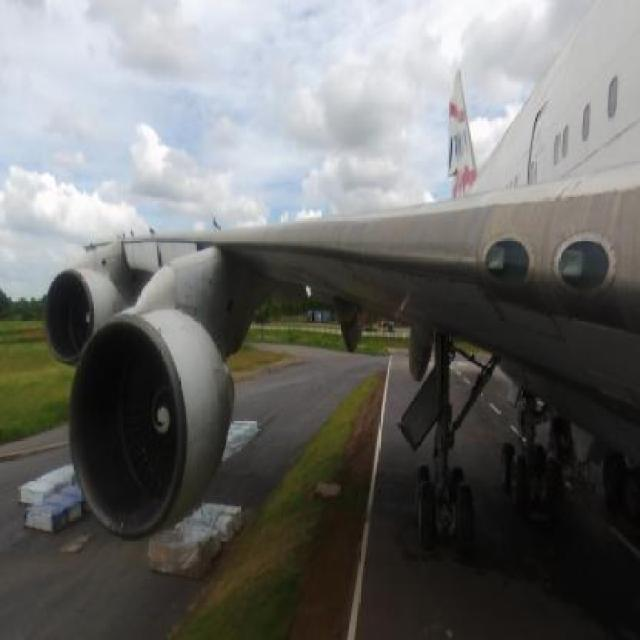Scartch: (373, 265, 478, 309)
